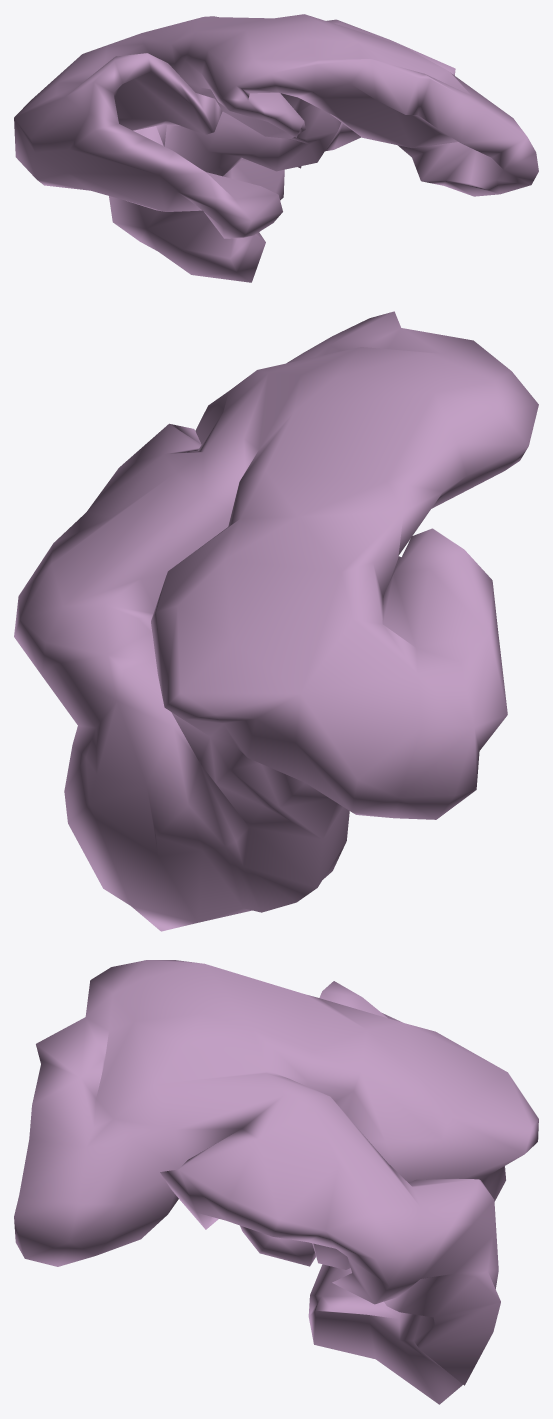
The picture shows the model from 3 angles, top to bottom: view 1: azimuth 30°, elevation 25°; view 2: azimuth 150°, elevation 25°; view 3: azimuth 270°, elevation 25°; orthographic projection. The views are drawn at different scales.
Parts seen in each view (by area): view 1: 左侧枕极; view 2: 左侧枕极; view 3: 左侧枕极.
Boxes of the visible parts, x1,y1,x2,y2 form: 左侧枕极: (14,14,538,282); 左侧枕极: (14,311,538,931); 左侧枕极: (14,960,538,1404).
Size of the model in its own units: 0.0466 by 0.0418 by 0.0509.
